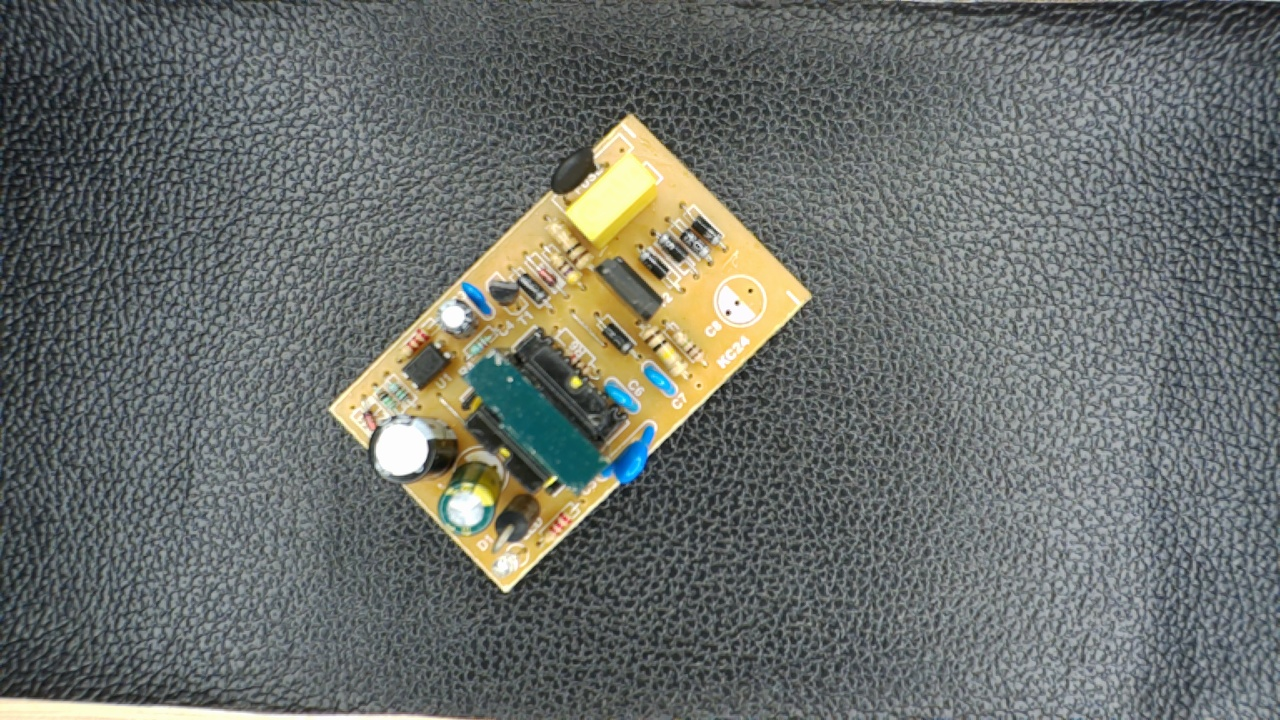fuse: (545, 143, 603, 207)
mov: (591, 422, 660, 491)
optocoupler: (396, 339, 456, 390)
